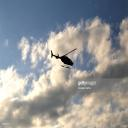helicopter: (52, 49, 78, 70)
